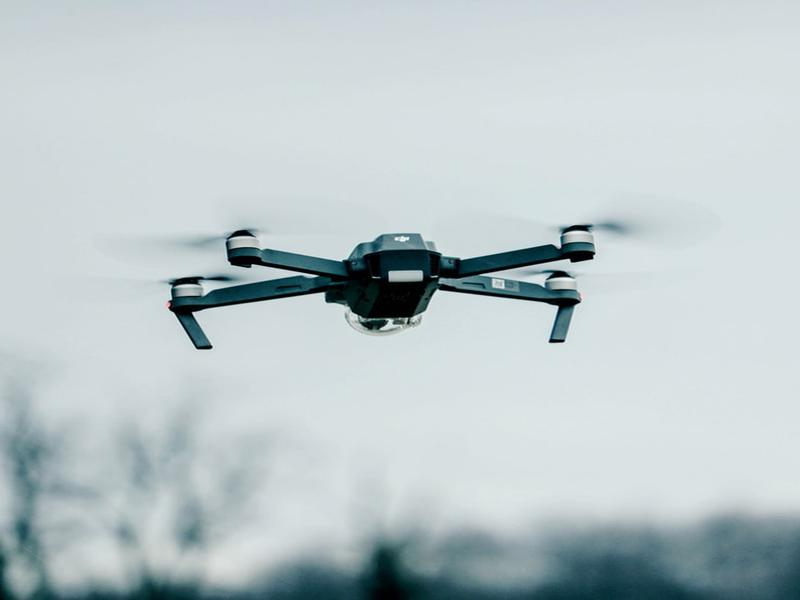enemy: (165, 219, 600, 343)
